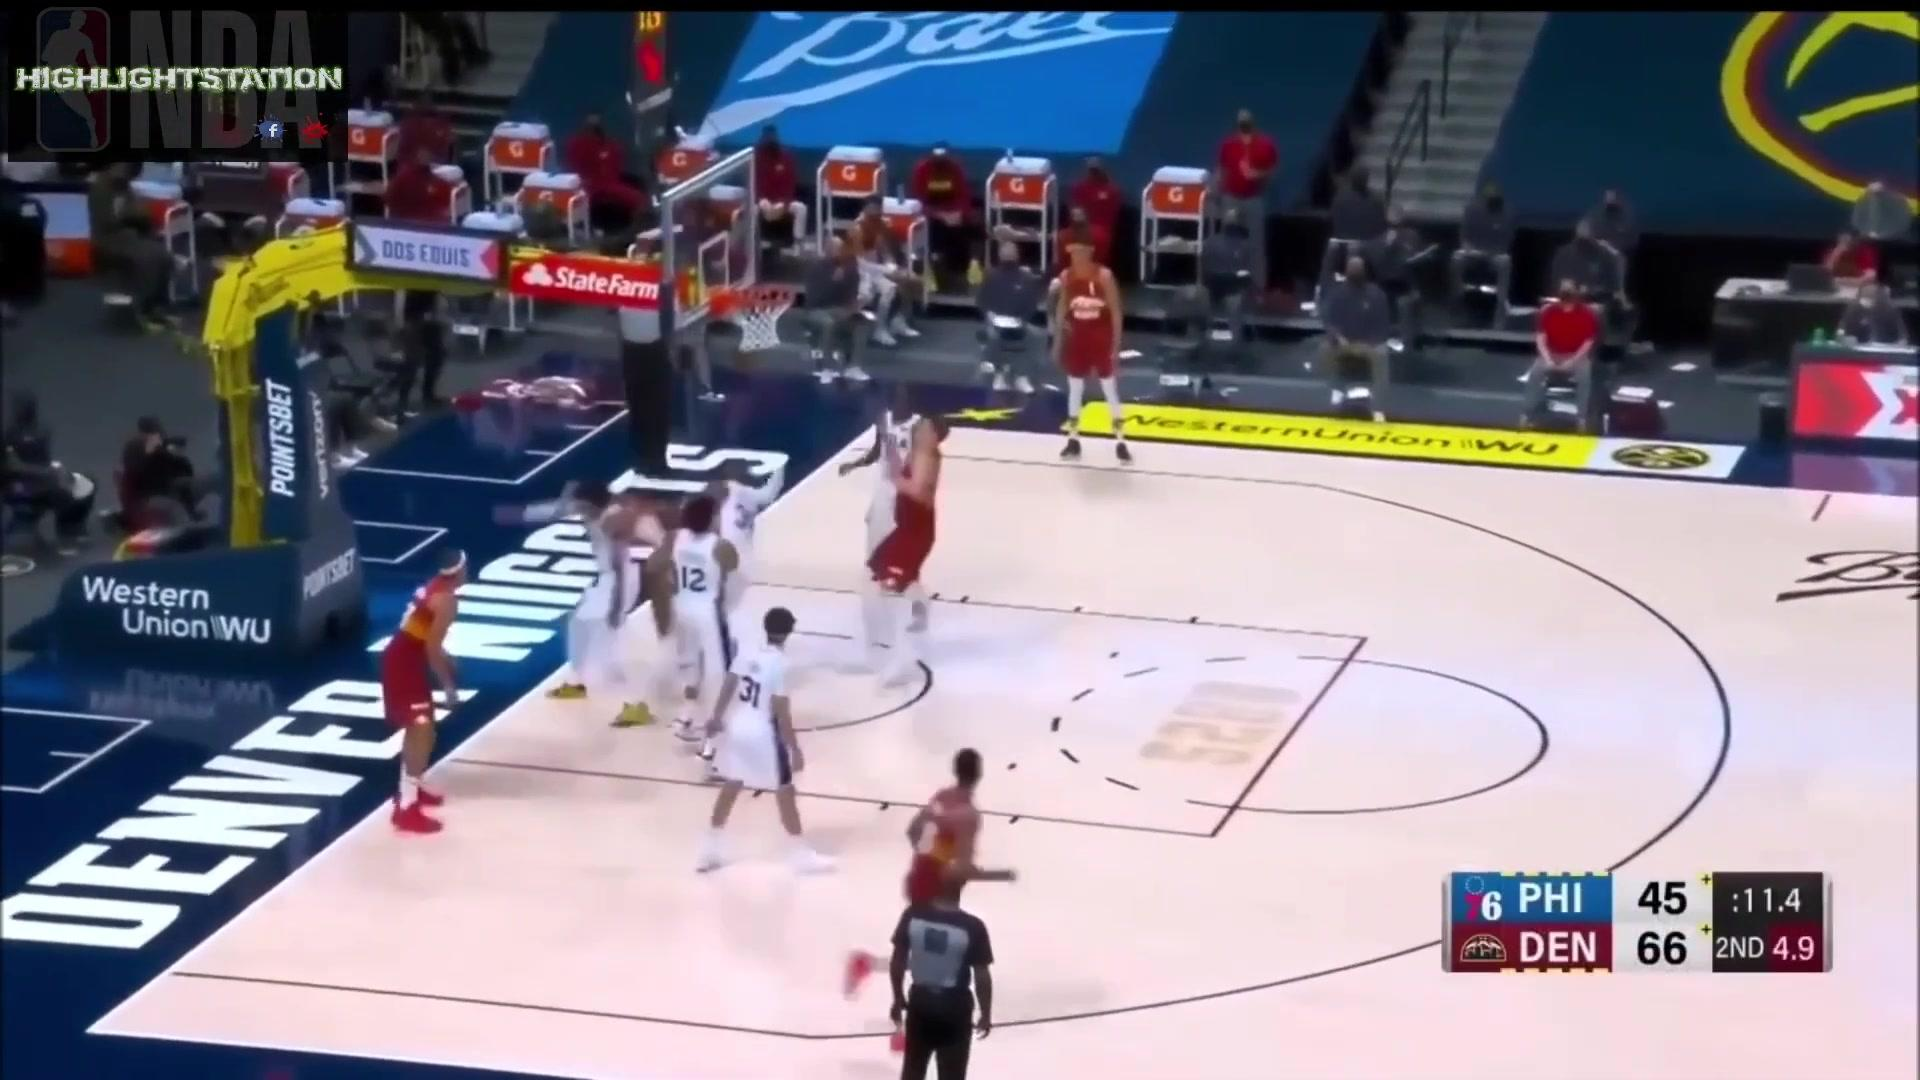no_foul: (828, 368, 976, 678)
